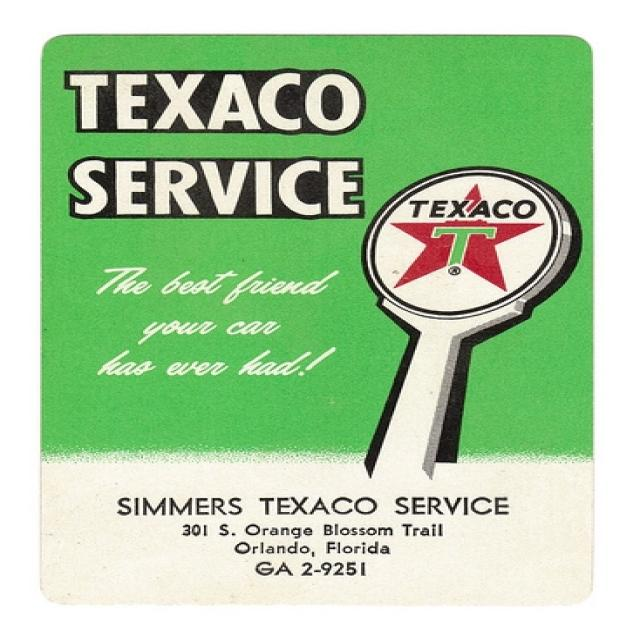texaco: (368, 174, 558, 317)
